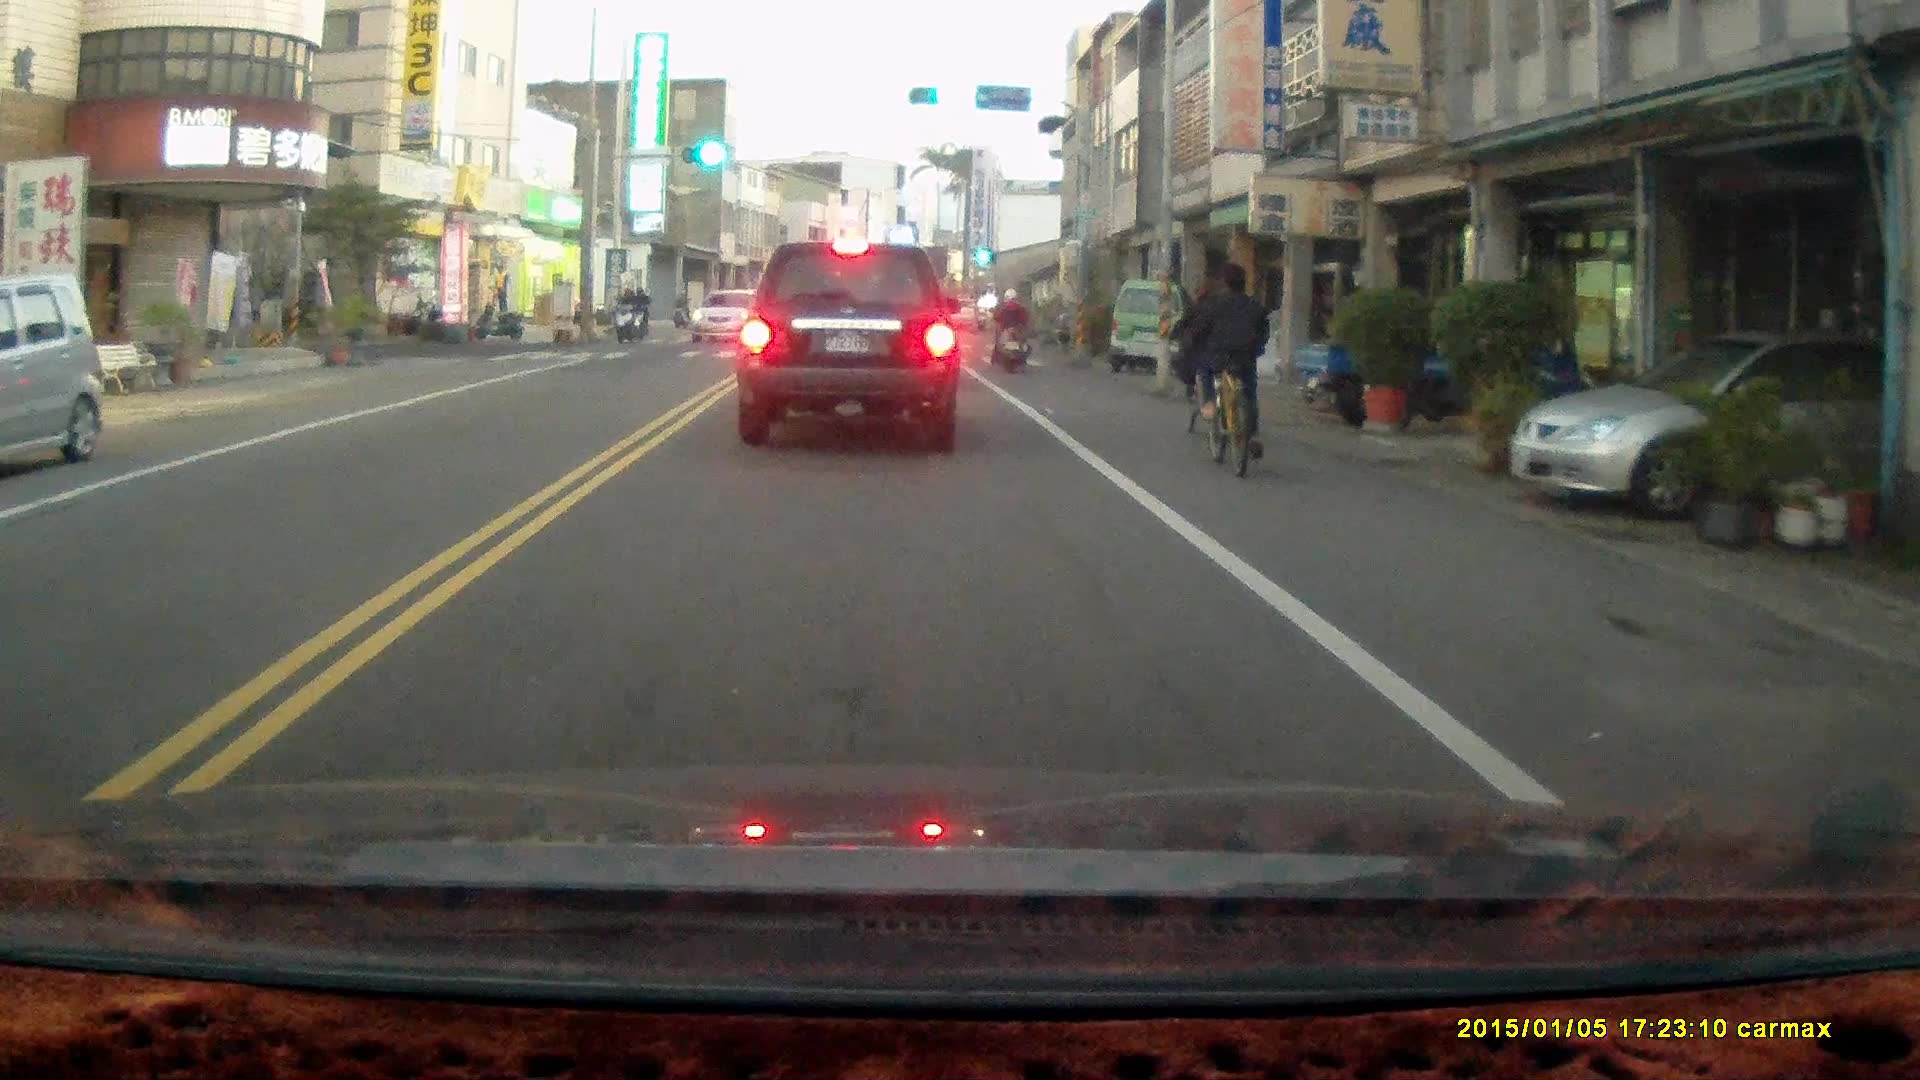pedestrian: (490, 261, 510, 312)
rider: (1193, 261, 1271, 474), (1170, 279, 1232, 444), (986, 286, 1035, 372), (611, 281, 644, 344), (670, 290, 691, 325)
vehicle: (1507, 329, 1920, 522), (739, 238, 964, 452), (1, 272, 110, 481), (1114, 279, 1206, 368), (683, 286, 779, 348)
